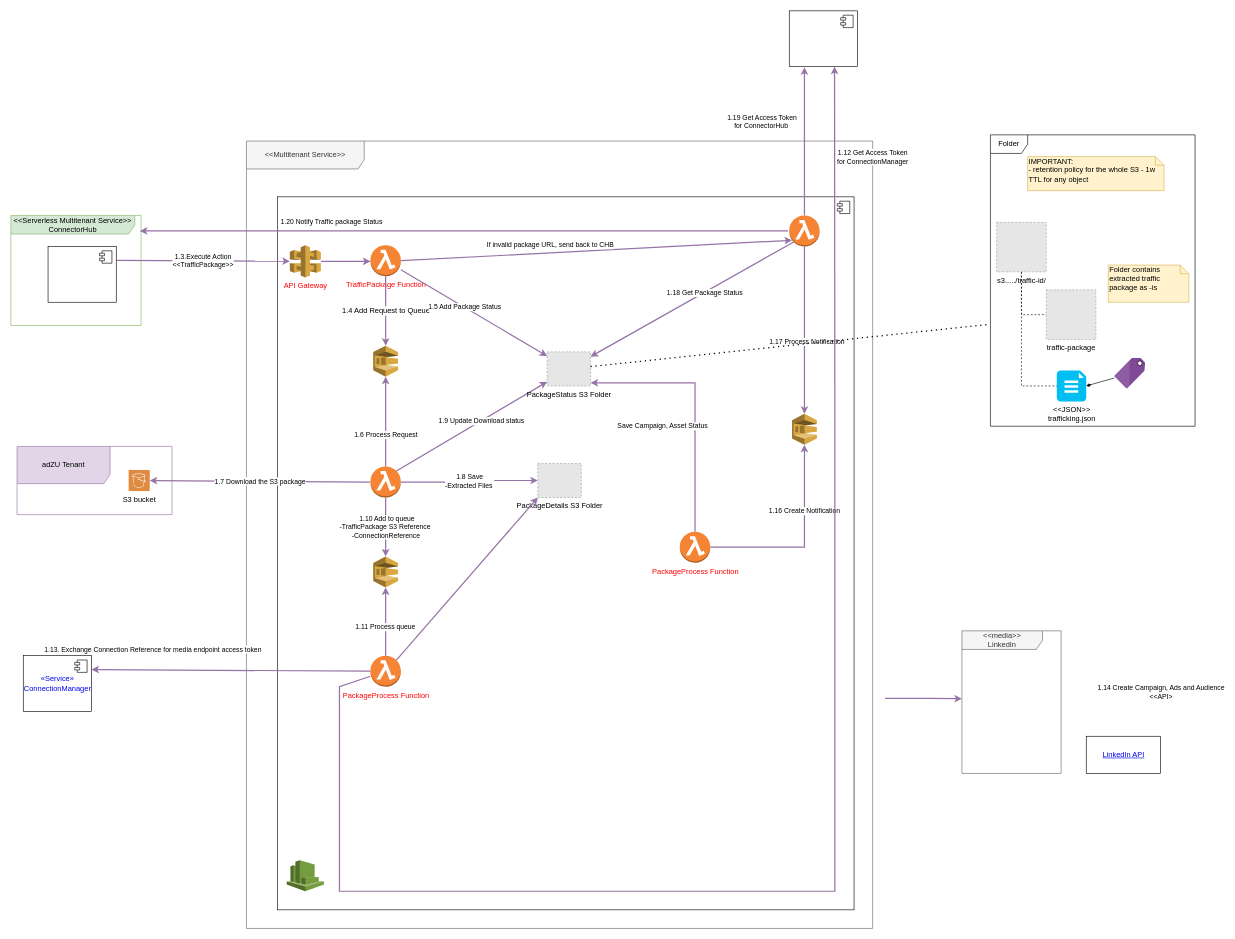
Image size: 1235x939. Some labels were removed from this diagram. Grey dashed boxes stand in for pictures. The shapes that lost their labels are listed below. From the top down, each one's box as (x1, y1, x2, y2) in pixels, then its label:
(789, 10, 857, 67): <<Identity Provider>> PlatfomManager
(789, 215, 820, 246): PackageNotification Function
(47, 246, 116, 302): «Service» CHB
(373, 345, 398, 377): PackageDownload queue
(1114, 358, 1145, 389): batch-id
(791, 413, 817, 445): PackageNotification queue
(370, 466, 401, 498): PackageDownload Function
(373, 556, 398, 587): PackageProcess queue
(286, 860, 324, 891): CloudWatch
